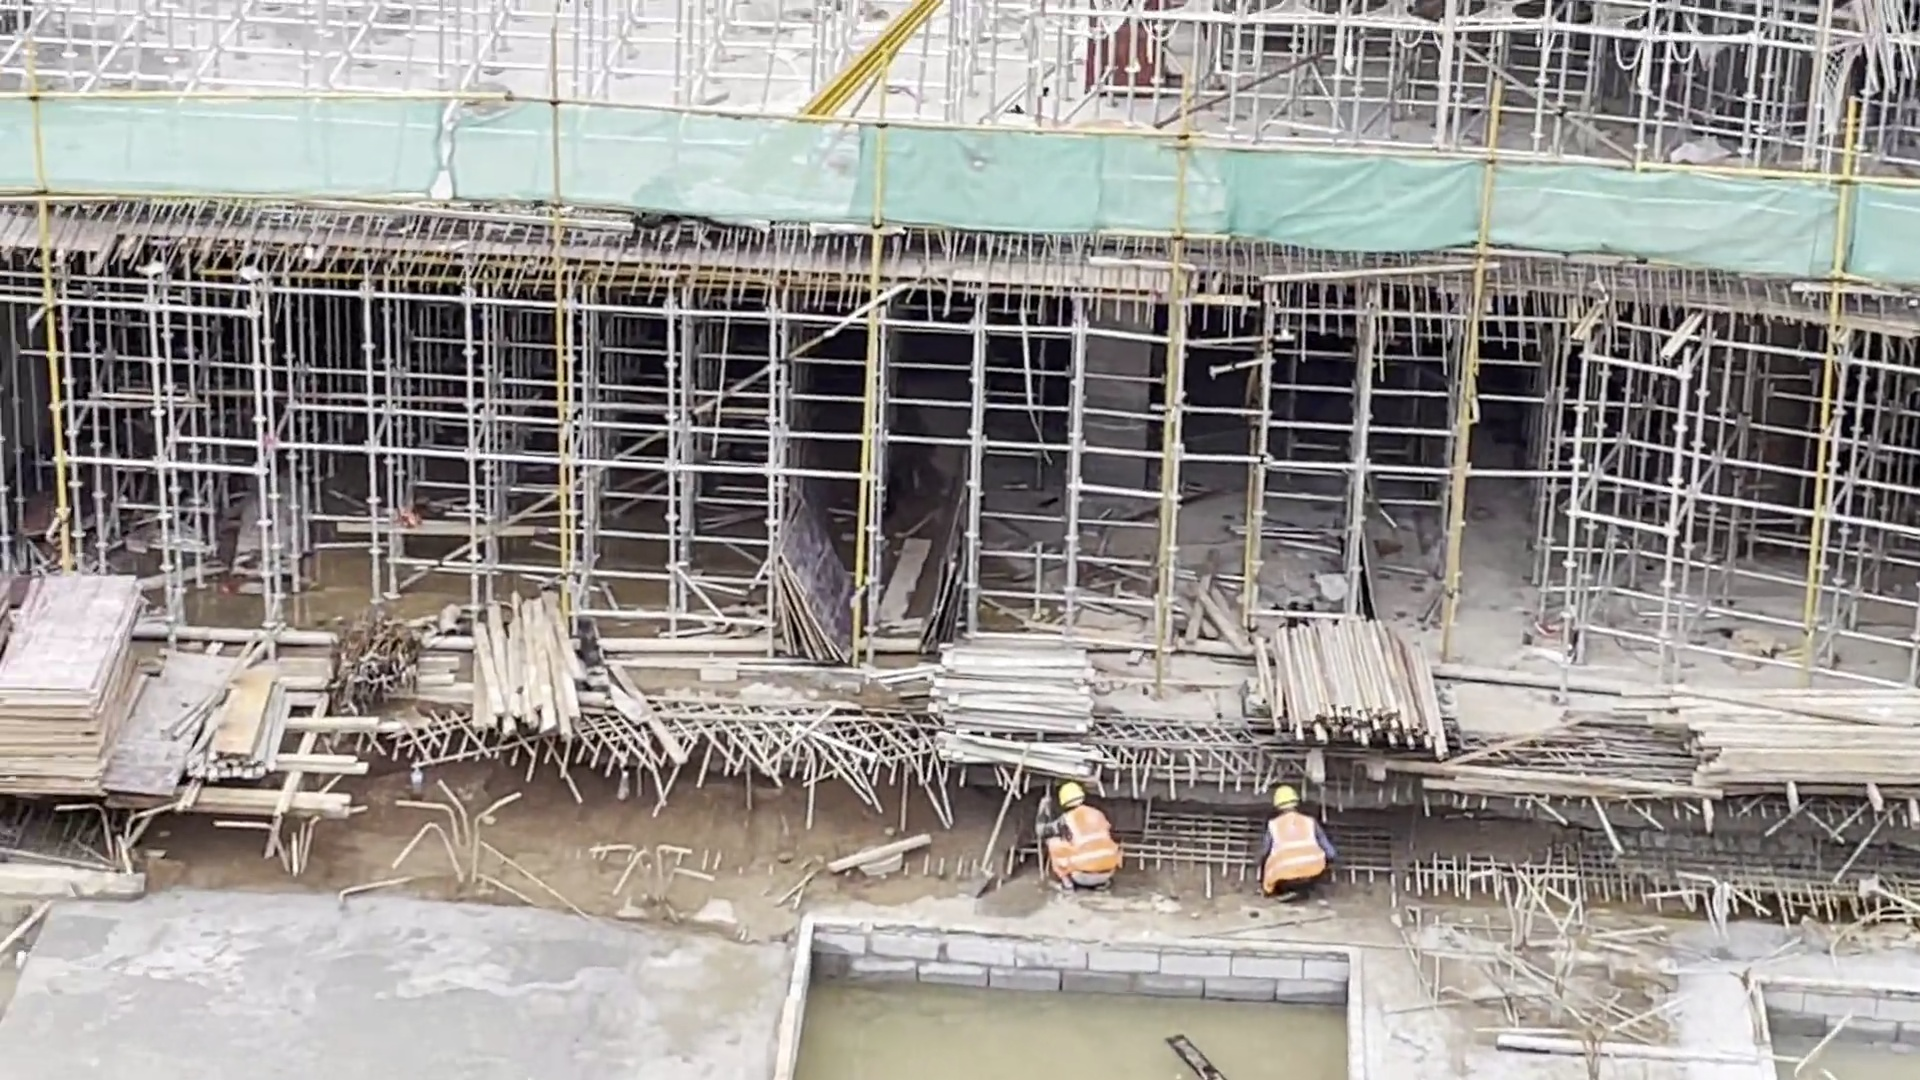board: (1, 577, 142, 794)
helmet: (1058, 781, 1087, 810), (1272, 784, 1302, 813)
person: (1028, 776, 1126, 899), (1251, 783, 1338, 905)
rebar: (320, 599, 424, 717)
vest: (1044, 806, 1122, 881), (1259, 814, 1328, 894)
wood: (1662, 692, 1920, 802), (468, 588, 580, 741)
